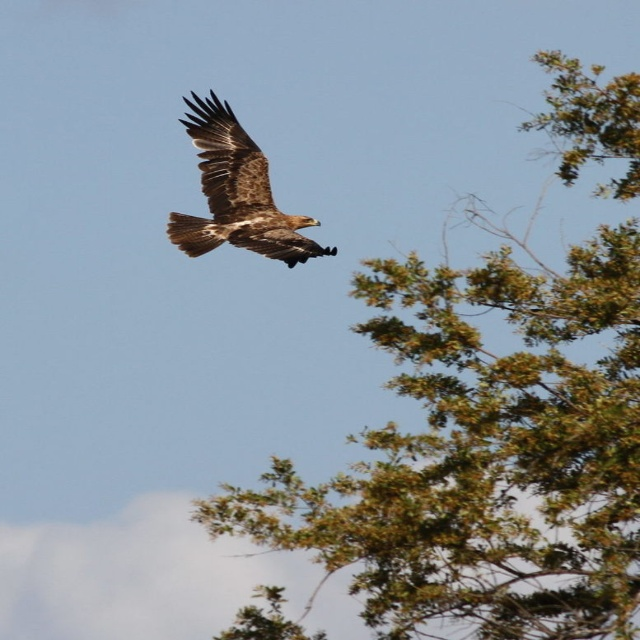Eagle: (171, 92, 341, 269)
